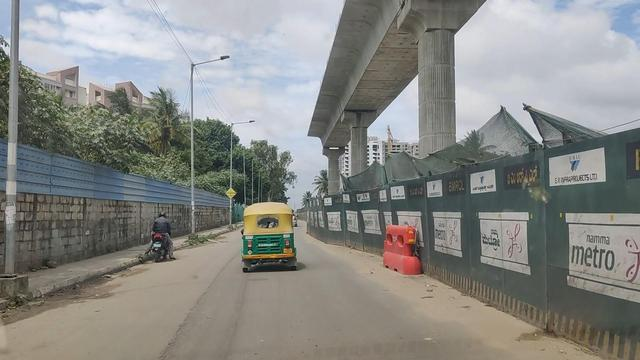LMV: (231, 196, 298, 278), (150, 207, 177, 258)
